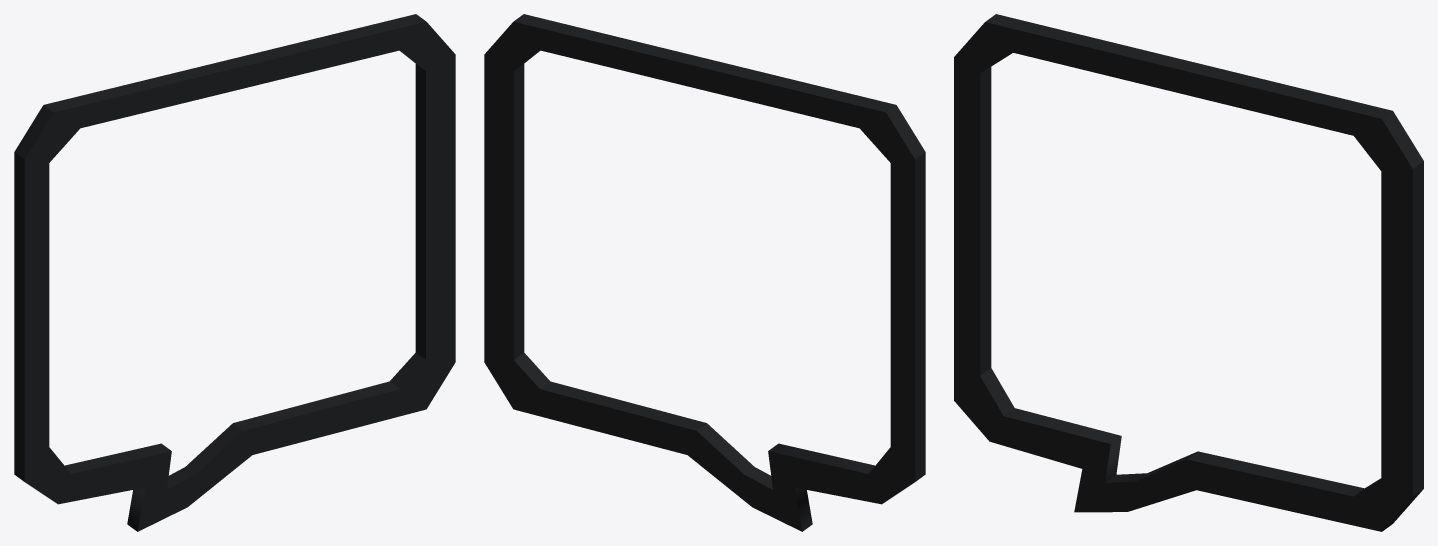
File: SM_Icon_SpeechBubble_03.fbx
The picture shows the model from 3 angles, left to right: view 1: azimuth 30°, elevation 25°; view 2: azimuth 150°, elevation 25°; view 3: azimuth 330°, elevation 25°; orthographic projection. The views are drawn at different scales.
Parts seen in each view (by area): view 1: SM_Icon_SpeechBubble_03; view 2: SM_Icon_SpeechBubble_03; view 3: SM_Icon_SpeechBubble_03.
Part boxes in pixels (x1,y1,x2,y2): SM_Icon_SpeechBubble_03: (14, 14, 455, 531); SM_Icon_SpeechBubble_03: (484, 14, 925, 531); SM_Icon_SpeechBubble_03: (954, 14, 1423, 531).
Size of the model in its own units: 45.76 by 44.64 by 1.92.
